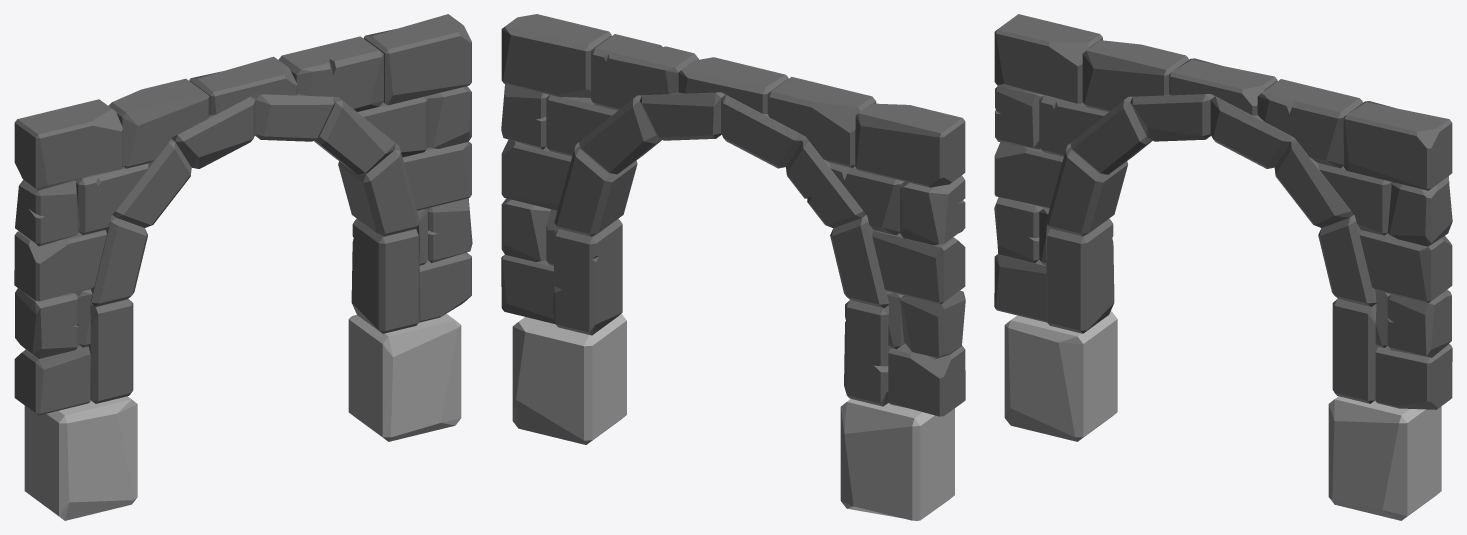
The model's file is WallDoor.gltf.
3 renders of one model, left to right at view 1: azimuth 30°, elevation 25°; view 2: azimuth 150°, elevation 25°; view 3: azimuth 330°, elevation 25°, orthographic.
Parts seen in each view (by area): view 1: DoorWallUpper; view 2: DoorWallUpper; view 3: DoorWallUpper.
Boxes of the visible parts, <box> form: DoorWallUpper: <box>14,14,472,520</box>; DoorWallUpper: <box>501,14,965,520</box>; DoorWallUpper: <box>994,14,1452,520</box>.
Size of the model in its own units: 2.6 by 2.2 by 0.4.
1 material, 1 textured.
